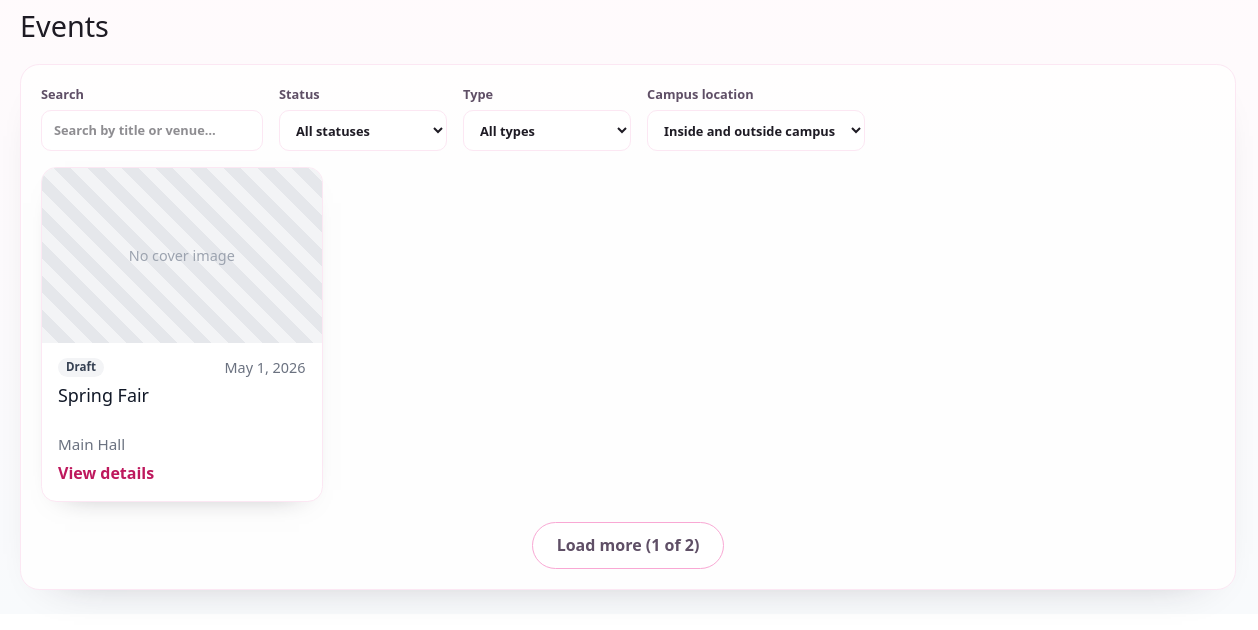
Scenario: EventsListView › shows Load more while total exceeds the loaded items and appends
Click the button with test id "load-more-events".
click(628, 545)  # box [532,522,724,569]
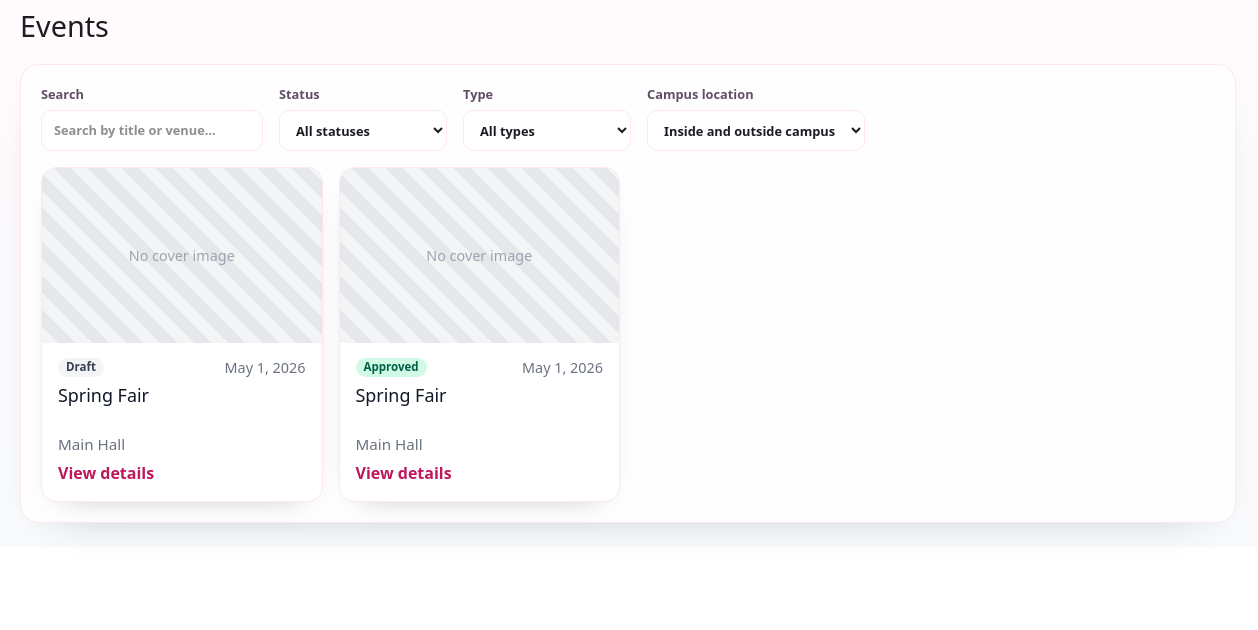
Expected: the link with test id "view-event-e2" is shown, [356,461,452,485]
